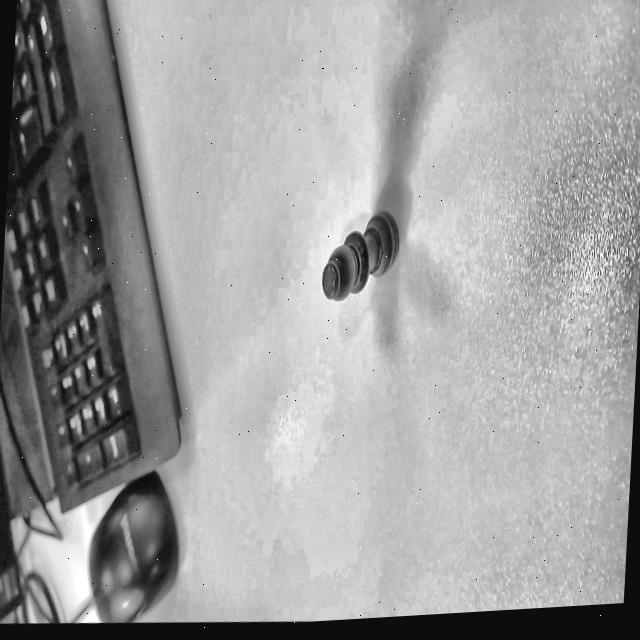black-bishop: (317, 193, 409, 318)
